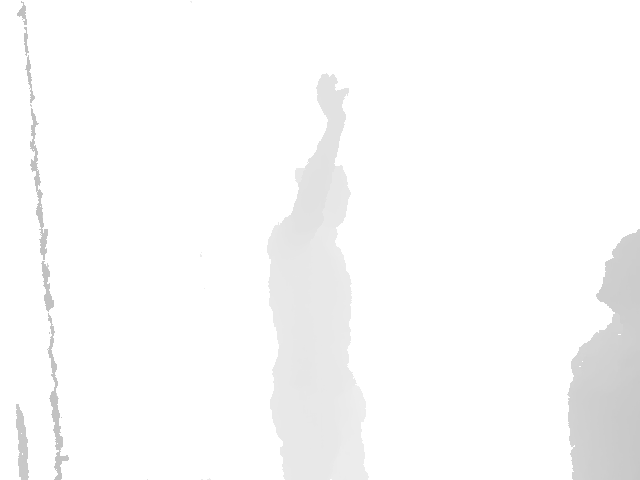hand: (315, 72, 351, 126)
head: (594, 226, 640, 321), (294, 163, 352, 230)
person: (264, 71, 371, 480), (567, 226, 640, 480)
